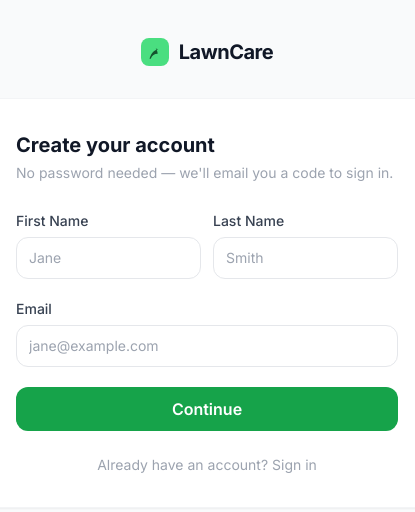
Test: Signup — details step › shows required-field errors when submitting an empty form
The width and height of the screenshot is (415, 512).
Click the button "Continue". click: coordinates (207, 409)
box: [16, 387, 398, 431]
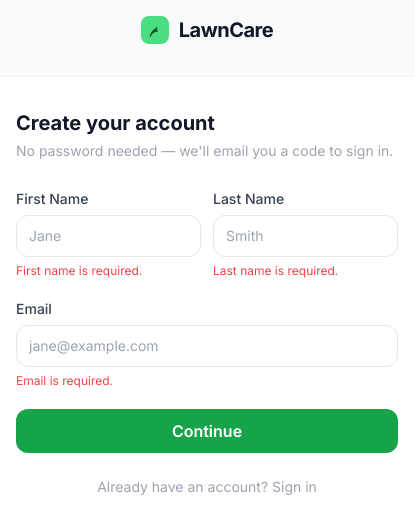
Result: the text "First name is required." is shown at [16, 263, 142, 278]
Result: the text "Last name is required." is shown at [213, 263, 338, 278]
Result: the text "Email is required." is shown at [16, 373, 113, 388]
